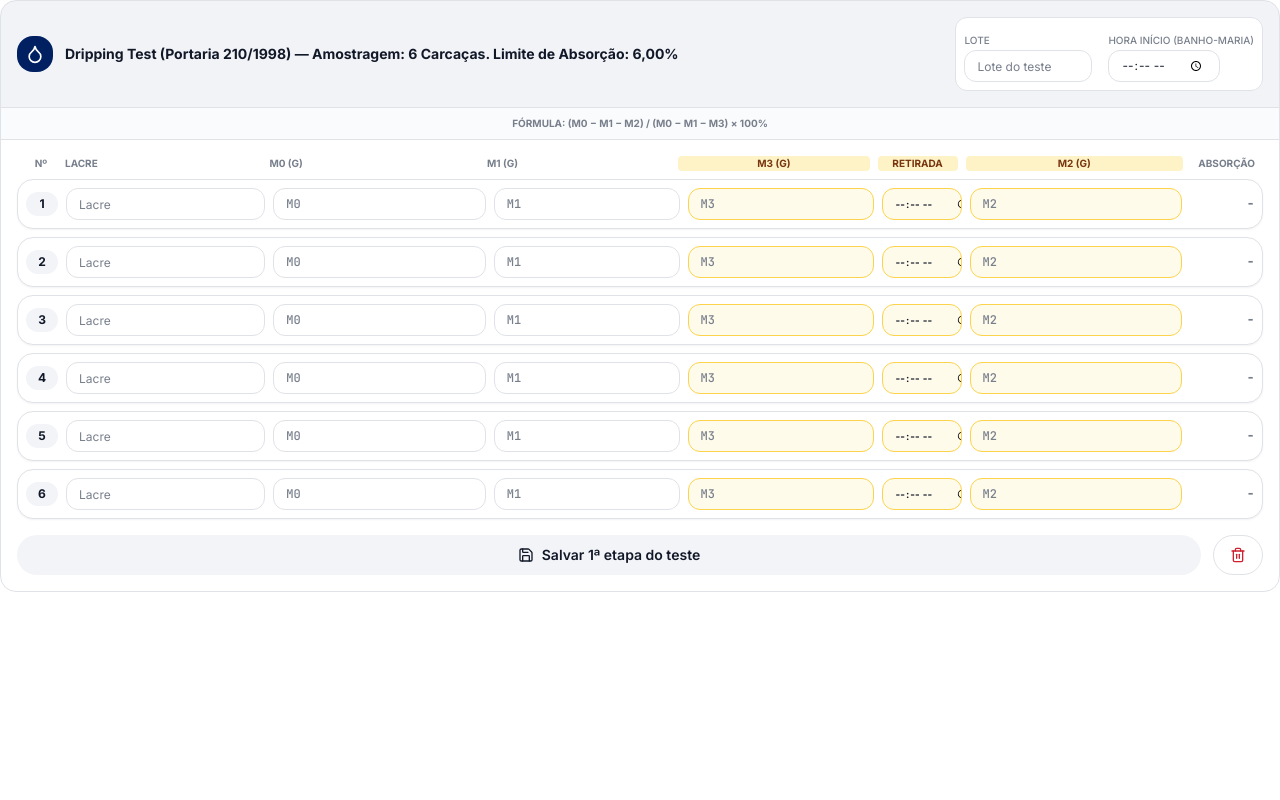
Test: B) Dripping Test — tela › informa a hora exata de retirada de cada carcaça (início + tempo da tabela do M0)
This screenshot has width=1280, height=800.
Type "08:00" into the time field with test id "hora-inicio-dripping".
click(1164, 66); type("08:00")  # box [1108,50,1220,82]
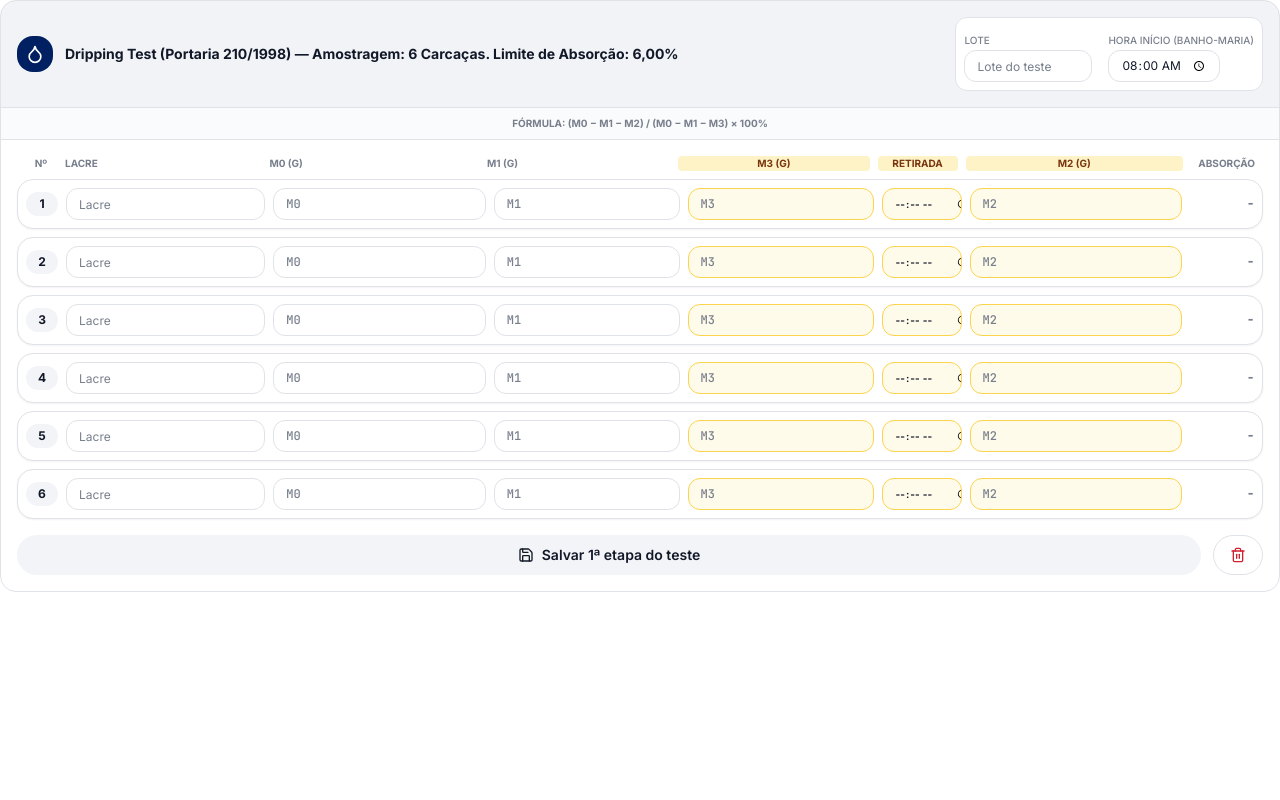
Type "1000" into the 1st number field with placeholder "M0".
click(379, 204); type("1000")  # box [273,188,486,220]
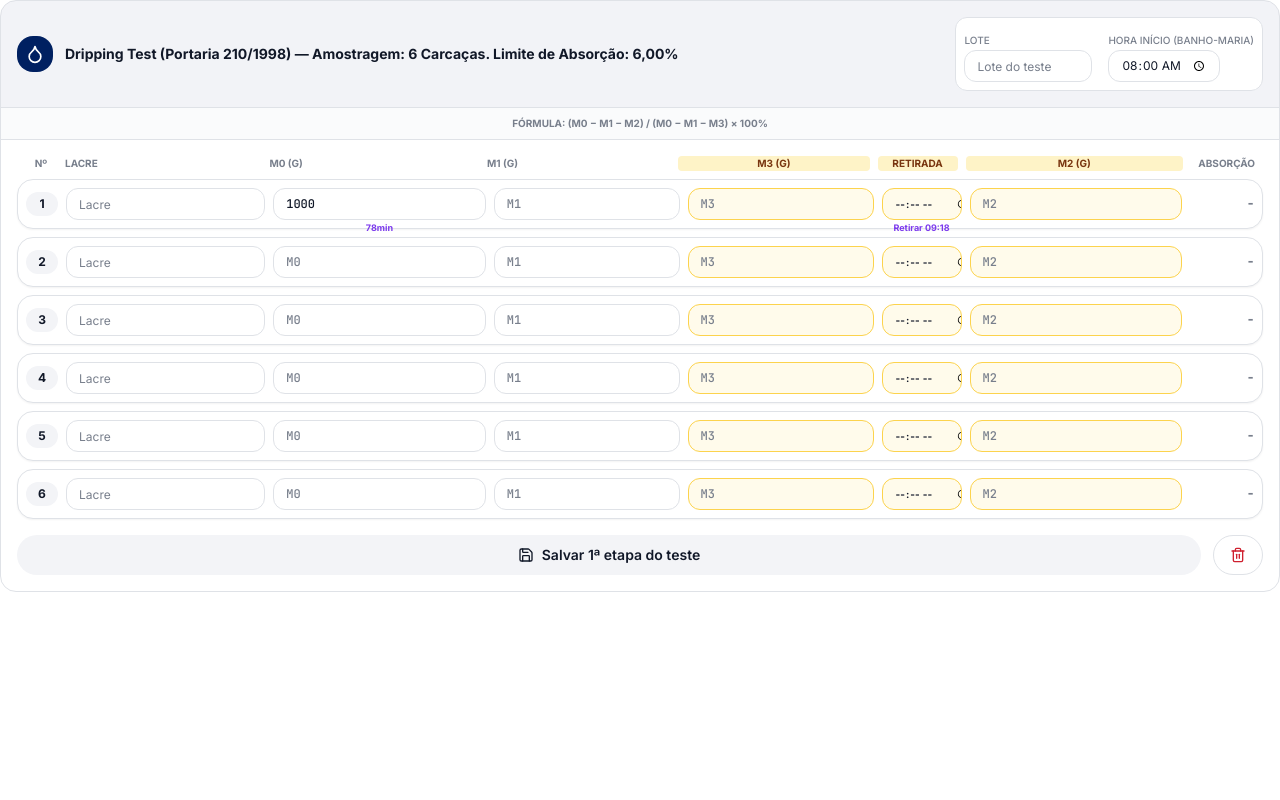
Type "2400" into the 1st number field with placeholder "M0".
click(379, 262); type("2400")  # box [273,246,486,278]
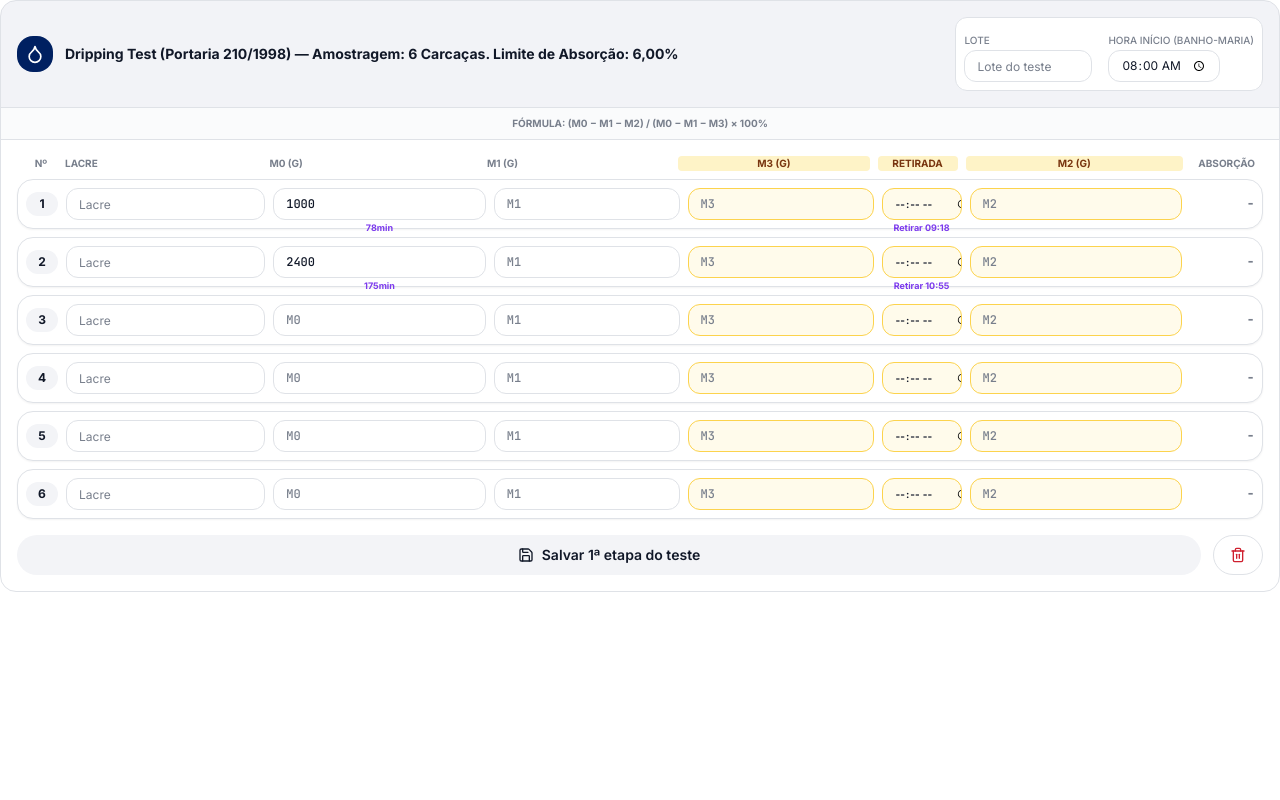
expect the text with test id "retirada-prevista-0" shows "09:18": met, box [925,222,950,232]
expect the text with test id "retirada-prevista-1" shows "10:55": met, box [925,280,949,290]
Replace the text in the time field with test id "hora-inicio-dripping" with "23:00" at (1164, 66), box [1108,50,1220,82]
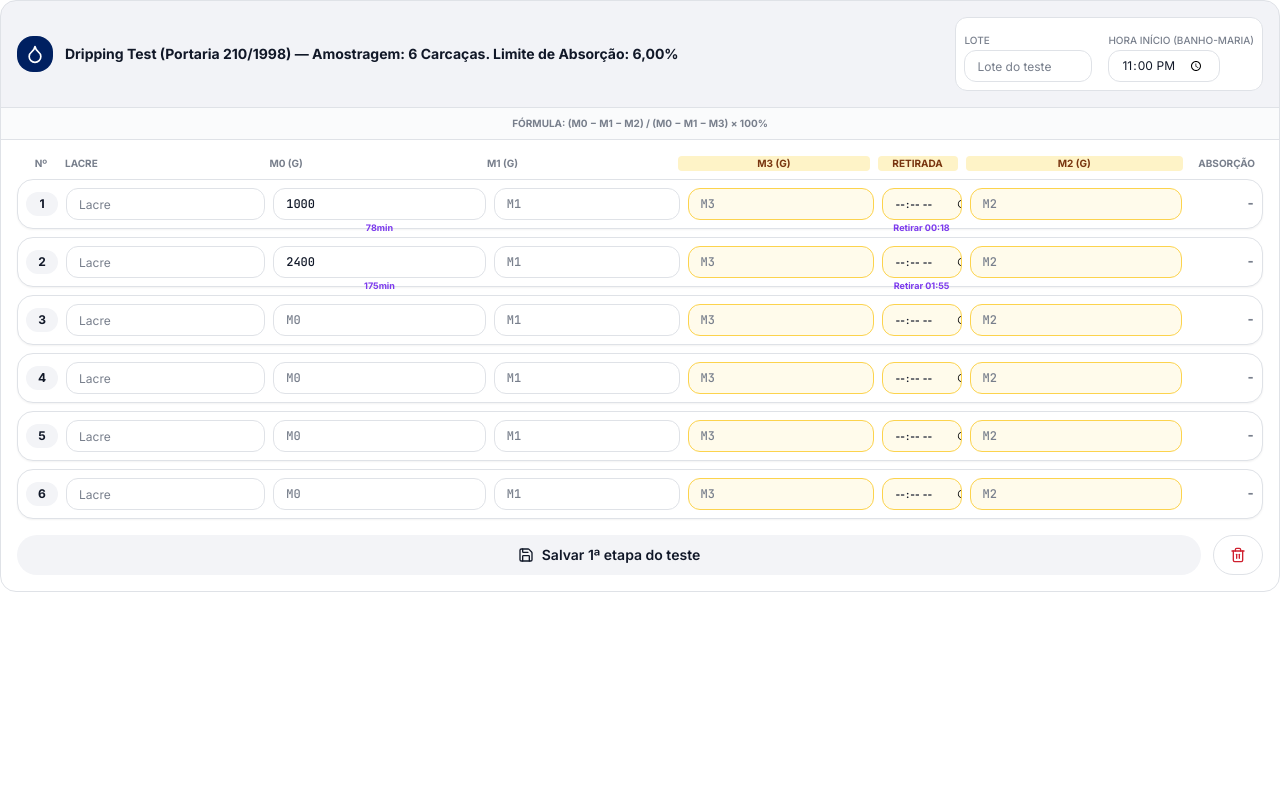
expect the text with test id "retirada-prevista-0" shows "00:18": met, box [925,222,950,232]
